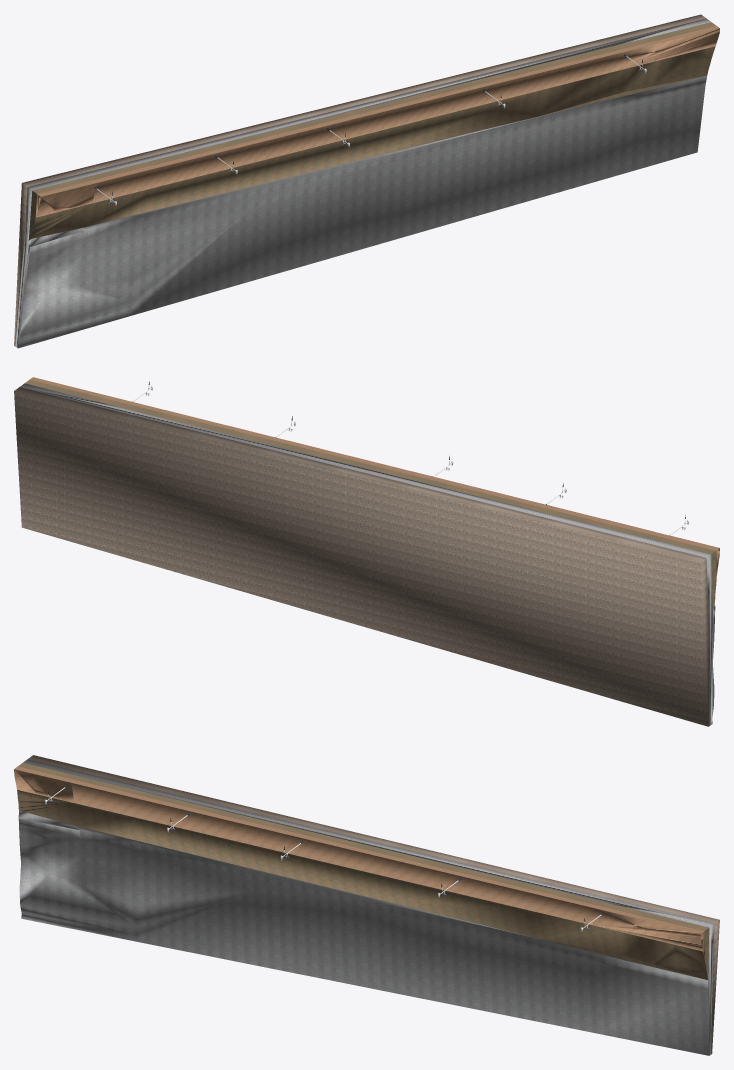
3 views of the same model, one above another, from view 1: azimuth 30°, elevation 25°; view 2: azimuth 150°, elevation 25°; view 3: azimuth 330°, elevation 25° (orthographic).
Visible parts, largest first — view 1: yunizhinaintu004, fenzhinaintu03, sutiantu03, yunizhinaintu03; view 2: yunizhinaintu03, yunizhinaintu004, fenzhinaintu03, sutiantu03; view 3: yunizhinaintu004, fenzhinaintu03, sutiantu03, yunizhinaintu03.
Part boxes in pixels (box(x1,y1,x2,y2)): yunizhinaintu004: box(15, 18, 711, 348); fenzhinaintu03: box(28, 22, 716, 240); sutiantu03: box(35, 26, 719, 217); yunizhinaintu03: box(14, 14, 706, 346); yunizhinaintu03: box(14, 387, 709, 726); yunizhinaintu004: box(20, 383, 715, 725); fenzhinaintu03: box(25, 379, 716, 606); sutiantu03: box(30, 377, 719, 573); yunizhinaintu004: box(18, 759, 714, 1055); fenzhinaintu03: box(17, 763, 709, 979); sutiantu03: box(14, 766, 704, 951); yunizhinaintu03: box(28, 755, 719, 1054).
Bounding box in the file's own units: 168 × 39.72 × 17.63.
11 materials, 8 textured.
